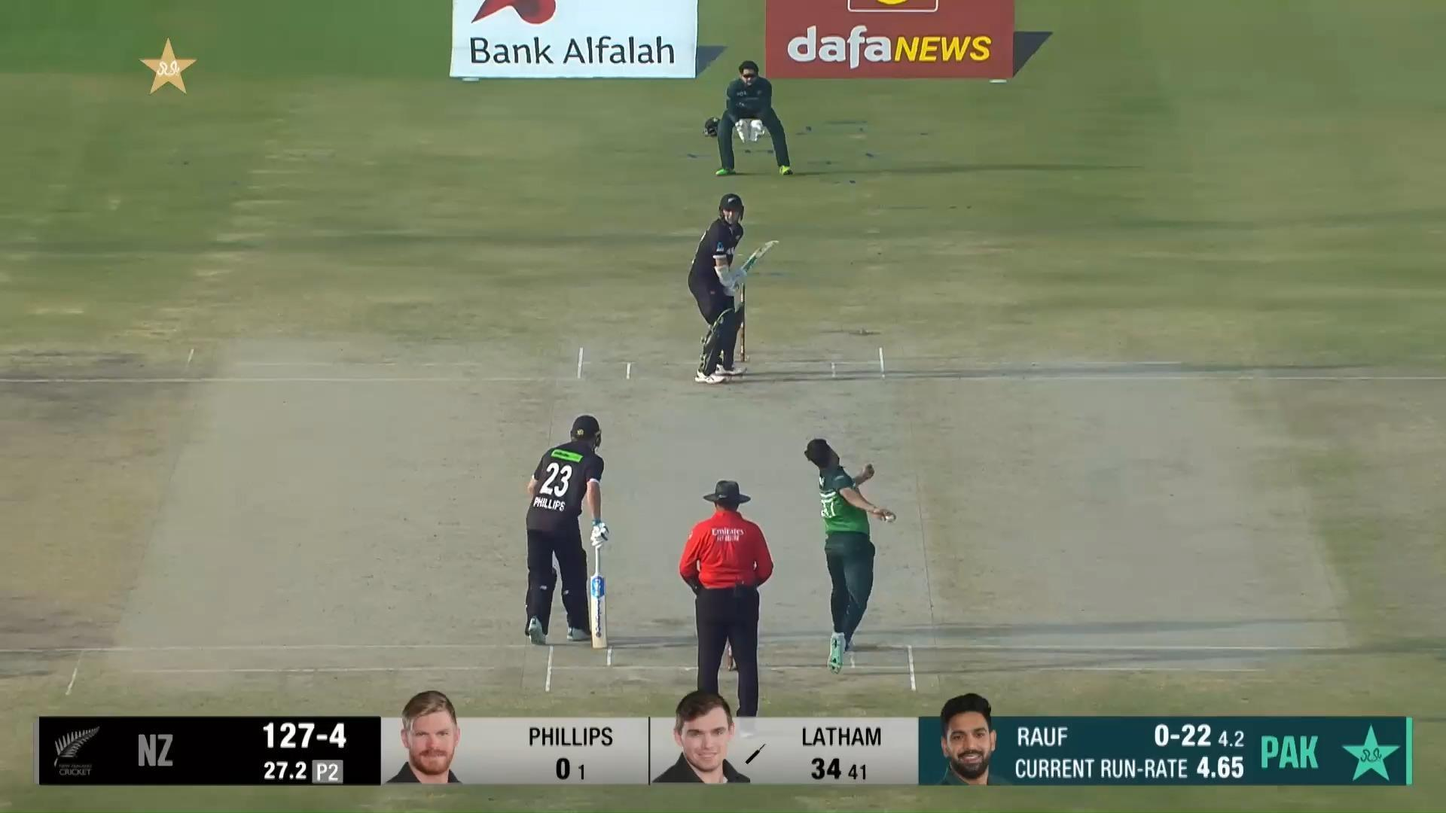BM 1: (687, 192, 781, 385)
BO: (803, 437, 895, 675)
